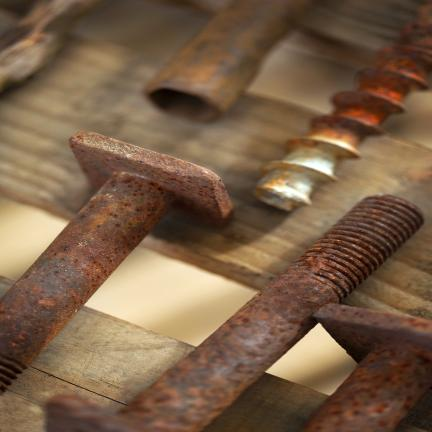karat: (47, 195, 431, 431), (245, 53, 428, 210)
